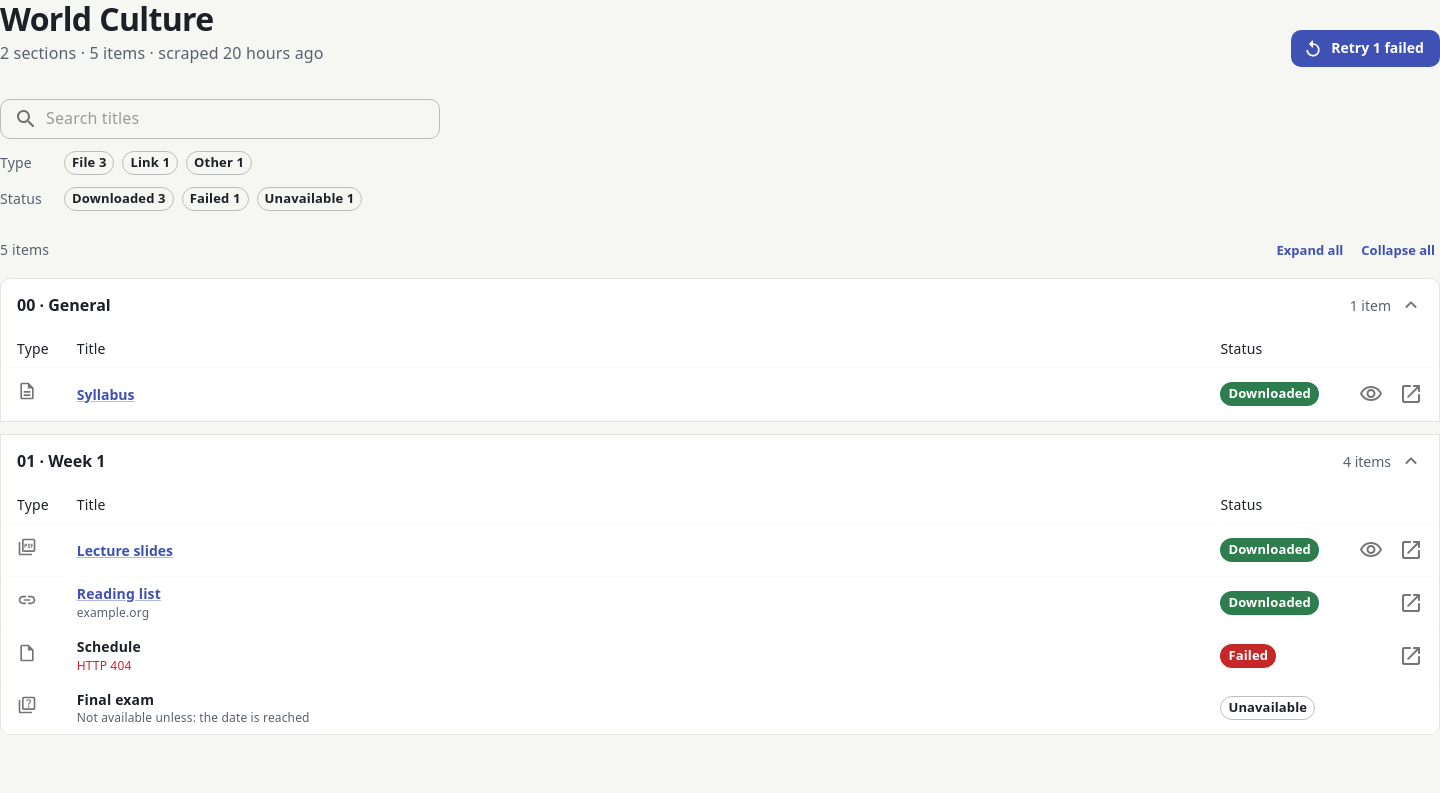
Scenario: CoursePage › retries failed items with the download job
The image size is (1440, 793).
Click the button "Retry 1 failed". click: coordinates (1366, 49)
box: top-left (1291, 30), bottom-right (1439, 67)
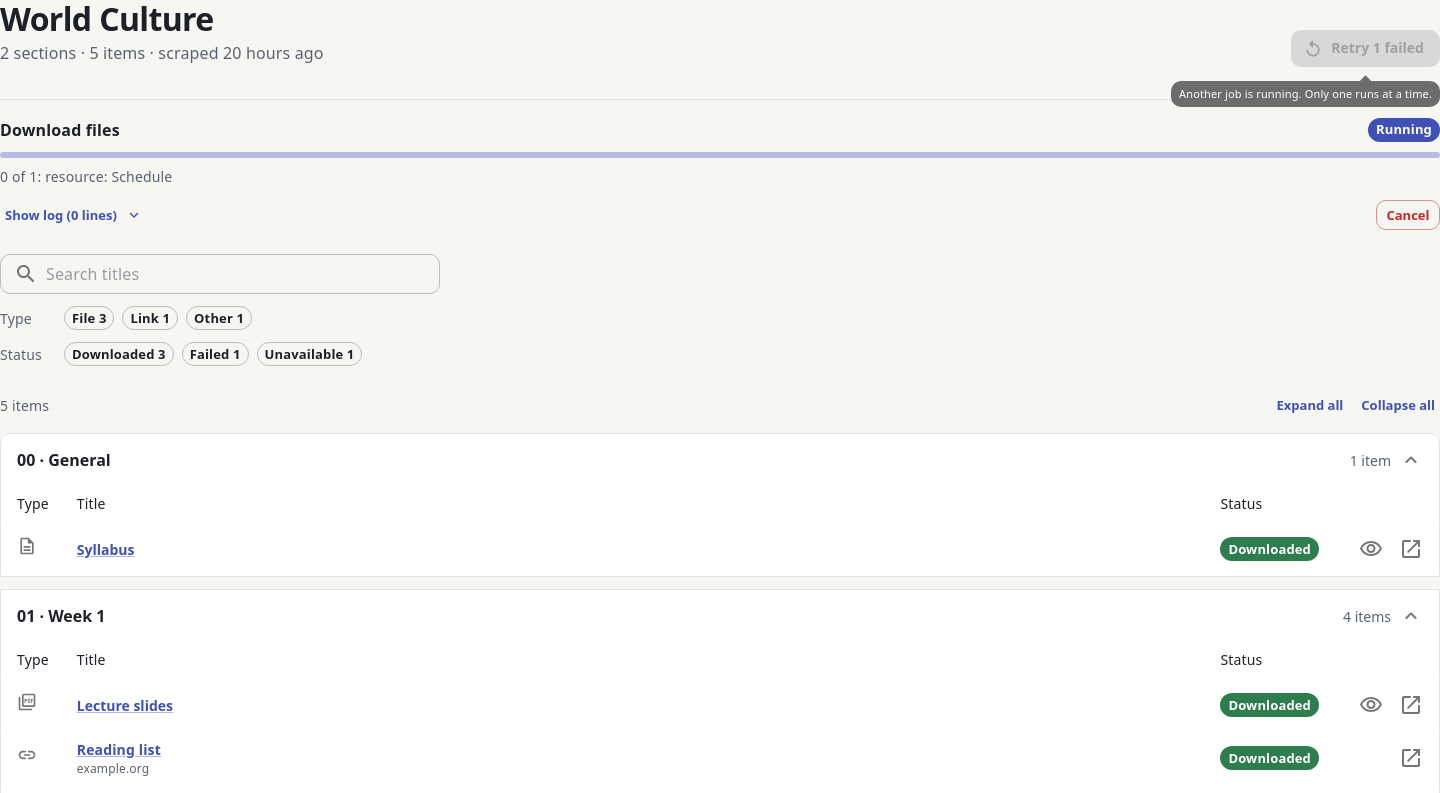
Expected: the heading "Download files" is shown, top-left (0, 119), bottom-right (120, 141)
Expected: the text "0 of 1: resource: Schedule" is shown, top-left (0, 167), bottom-right (172, 186)
Expected: the button "Retry 1 failed" is disabled, top-left (1291, 30), bottom-right (1439, 67)
